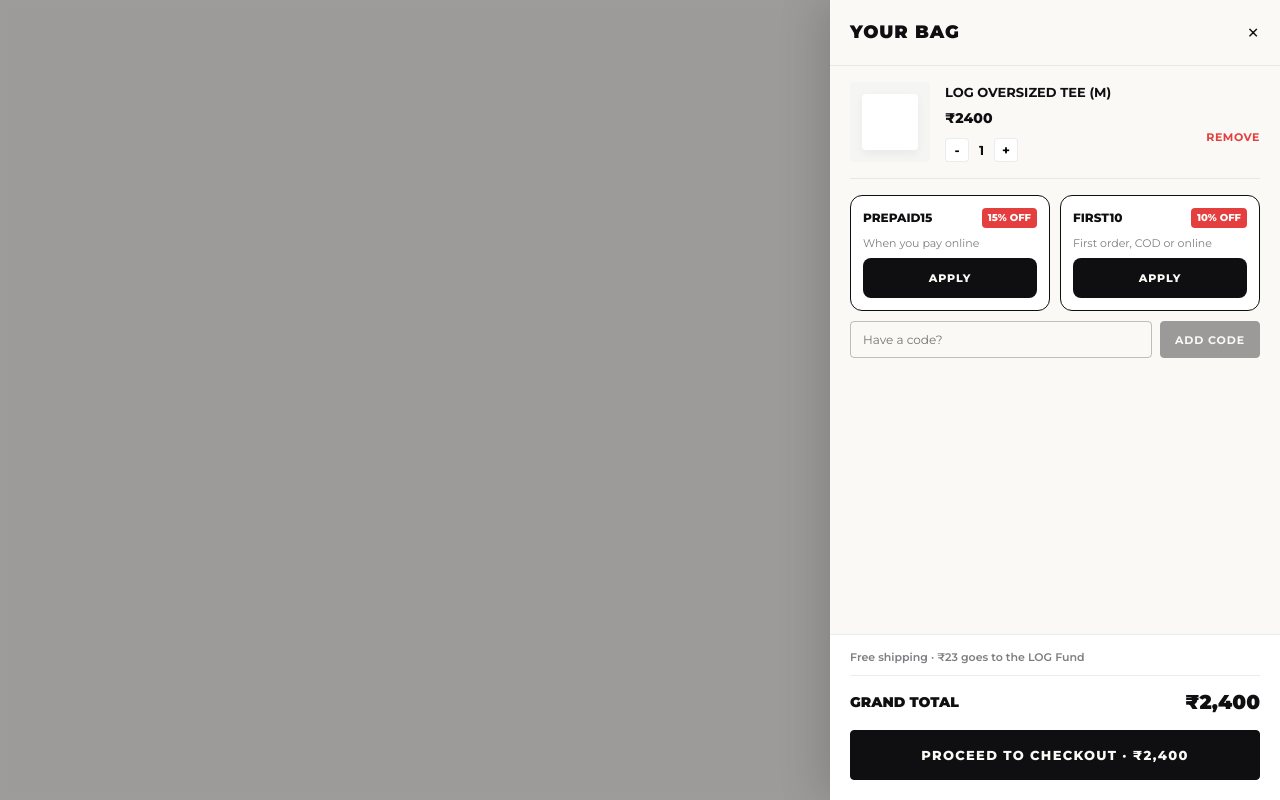
Test: Coupon System Frontend Tests (KAAM 4) › bag offers › bag footer is one short note with no subtotal row until an offer is applied
The image size is (1280, 800).
expect the text "Grand Total" is shown: met, box top-left (850, 691), bottom-right (959, 713)
expect the element with class "cart-footer" shows "Free shipping · ₹23 goes to the LOG Fund": met, box top-left (830, 634), bottom-right (1279, 799)
Click the button with class "bag-offer-btn" below "When you pay online" at [950, 278], box top-left (863, 258), bottom-right (1037, 298)
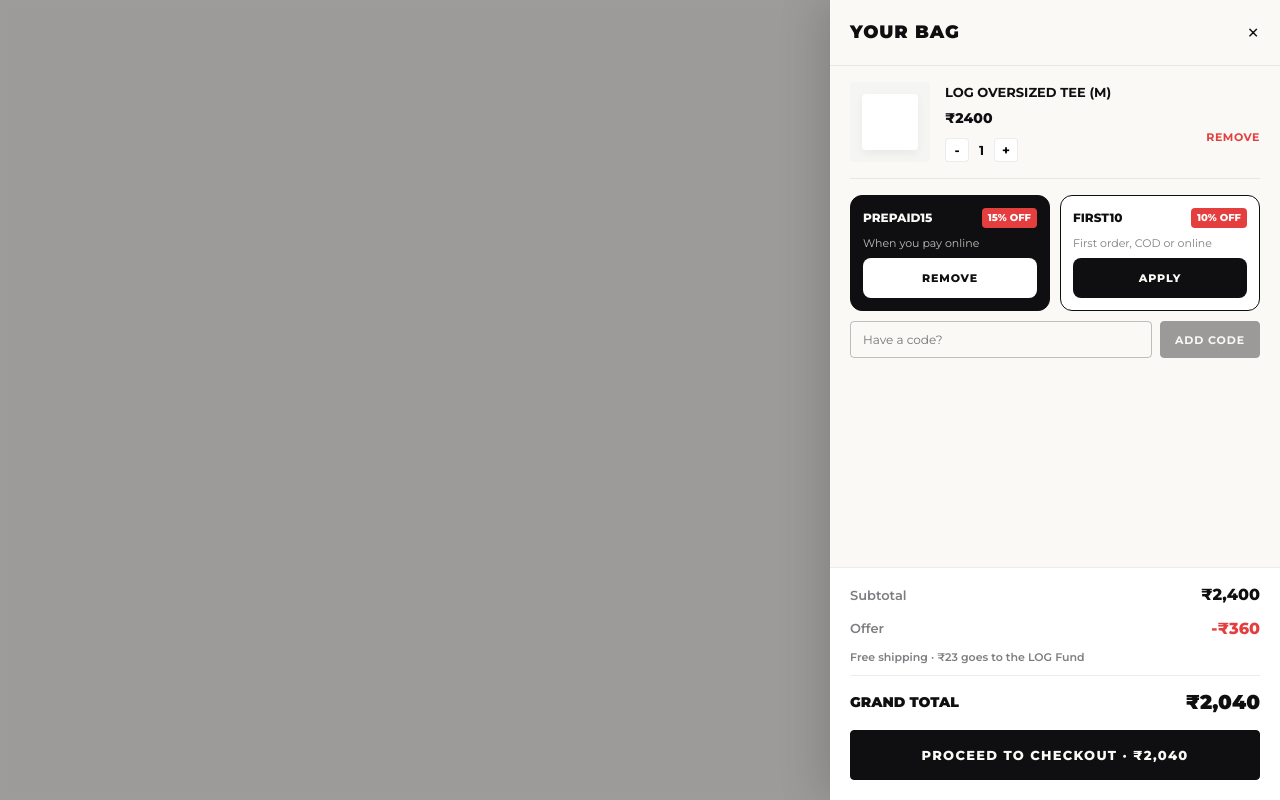
expect the element with class "cart-footer" shows "₹2,400": met, box top-left (830, 567), bottom-right (1279, 799)
expect the element with class "cart-footer" shows "Subtotal": met, box top-left (850, 587), bottom-right (906, 603)
expect the element with class "cart-footer" shows "-₹360": met, box top-left (830, 567), bottom-right (1279, 799)
